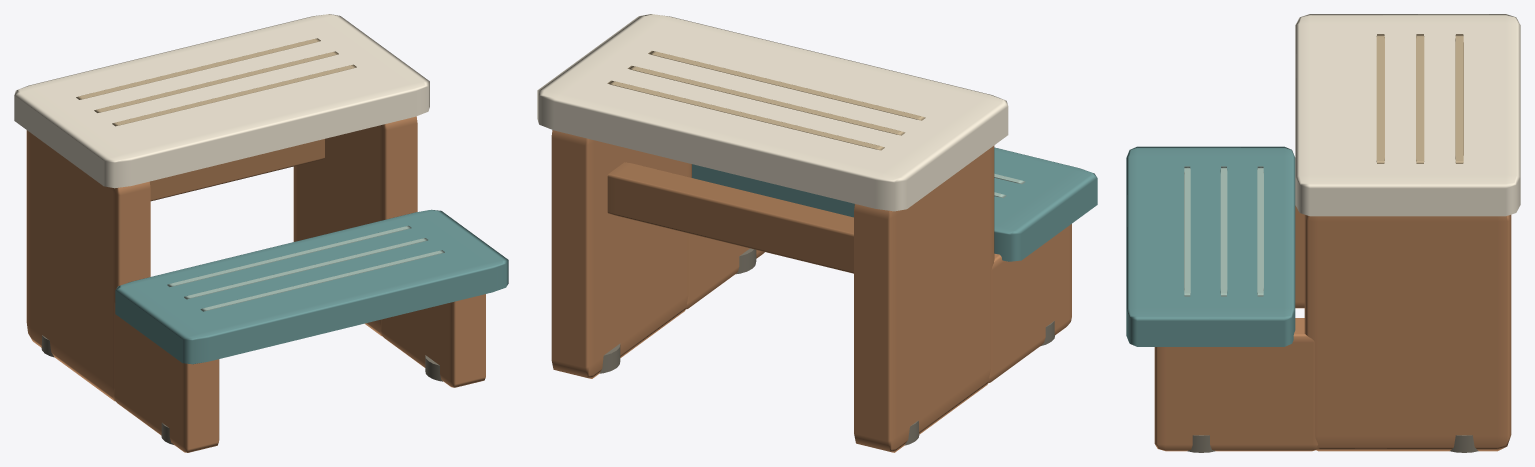
File: apartment-step-v1.glb
The picture shows the model from 3 angles, left to right: view 1: azimuth 30°, elevation 25°; view 2: azimuth 150°, elevation 25°; view 3: azimuth 270°, elevation 25°; orthographic projection. The views are drawn at different scales.
Parts seen in each view (by area): view 1: Side (×4), Upper, Lower, Cross-brace, Upper-inlay (×3), Lower-inlay (×3); view 2: Side (×4), Upper, Cross-brace, Lower, Upper-inlay (×3); view 3: Side (×3), Upper, Lower, Upper-inlay (×3), Lower-inlay (×3).
Part boxes in pixels (x1,y1,x2,y2): Side (×4): (26, 116, 485, 452); Upper: (14, 14, 429, 188); Lower: (115, 209, 508, 364); Cross-brace: (150, 139, 324, 201); Upper-inlay (×3): (76, 38, 356, 126); Lower-inlay (×3): (167, 225, 444, 311); Side (×4): (551, 130, 1071, 452); Upper: (537, 14, 1008, 211); Cross-brace: (607, 162, 853, 273); Lower: (692, 147, 1097, 261); Upper-inlay (×3): (607, 51, 925, 150); Side (×3): (1154, 205, 1511, 451); Upper: (1295, 14, 1520, 216); Lower: (1126, 146, 1295, 346); Upper-inlay (×3): (1376, 34, 1463, 163); Lower-inlay (×3): (1184, 166, 1263, 296).
Size of the model in its own units: 0.44 by 0.321 by 0.42.
